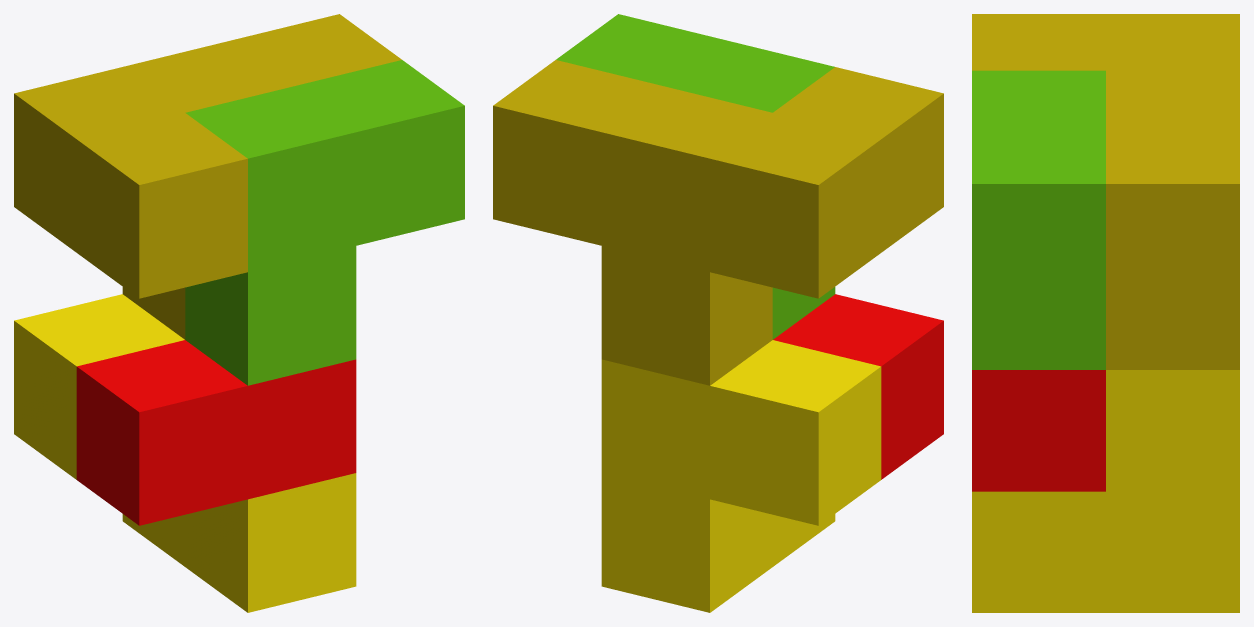
3 renders of one model, left to right at view 1: azimuth 30°, elevation 25°; view 2: azimuth 150°, elevation 25°; view 3: azimuth 270°, elevation 25°, orthographic. The views are drawn at different scales.
Parts seen in each view (by area): view 1: mergedBlocks(Clone); view 2: mergedBlocks(Clone); view 3: mergedBlocks(Clone).
Part boxes in pixels (<box>): mergedBlocks(Clone): <box>14,14,464,612</box>; mergedBlocks(Clone): <box>493,14,943,612</box>; mergedBlocks(Clone): <box>972,14,1239,612</box>.
Size of the model in its own units: 3 by 4 by 2.
Materials: 4 (4 with a texture image).
